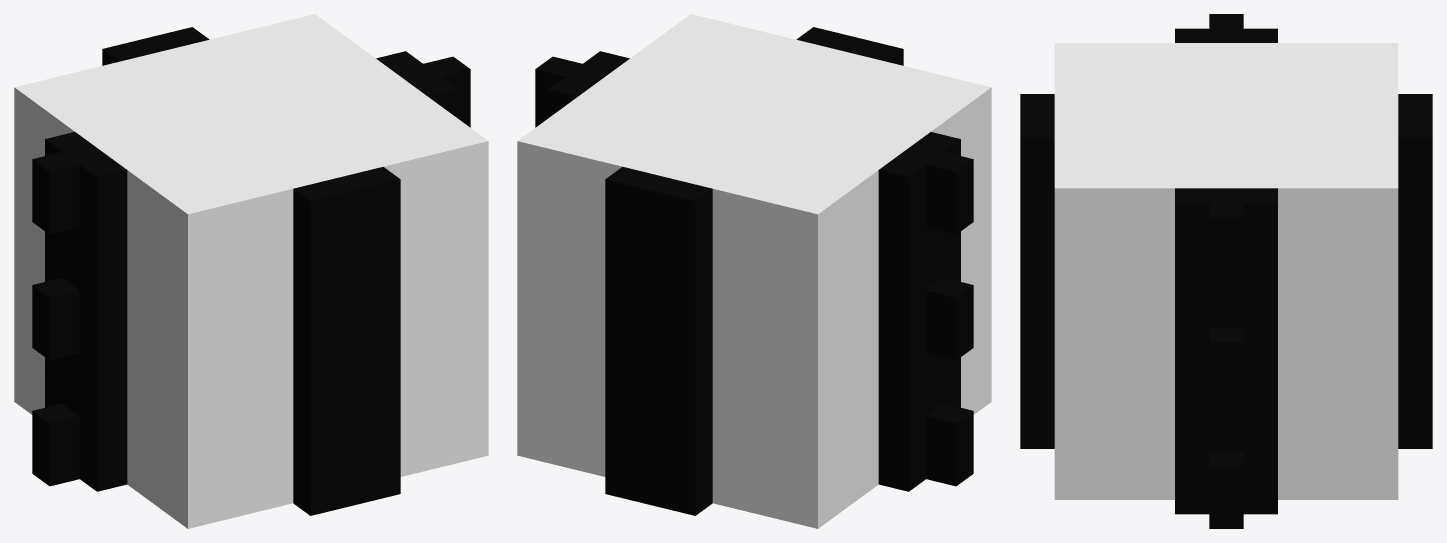
Rendered from maya_block.fbx.
3 views of the same model, side by side, from view 1: azimuth 30°, elevation 25°; view 2: azimuth 150°, elevation 25°; view 3: azimuth 270°, elevation 25° (orthographic).
Visible parts, largest first — view 1: maya_block; view 2: maya_block; view 3: maya_block.
Part boxes in pixels (left/top/right/bottom): maya_block: left=14, top=14, right=488, bottom=528; maya_block: left=517, top=14, right=991, bottom=528; maya_block: left=1020, top=14, right=1432, bottom=528.
Bounding box in the file's own units: 14 × 10 × 12.
